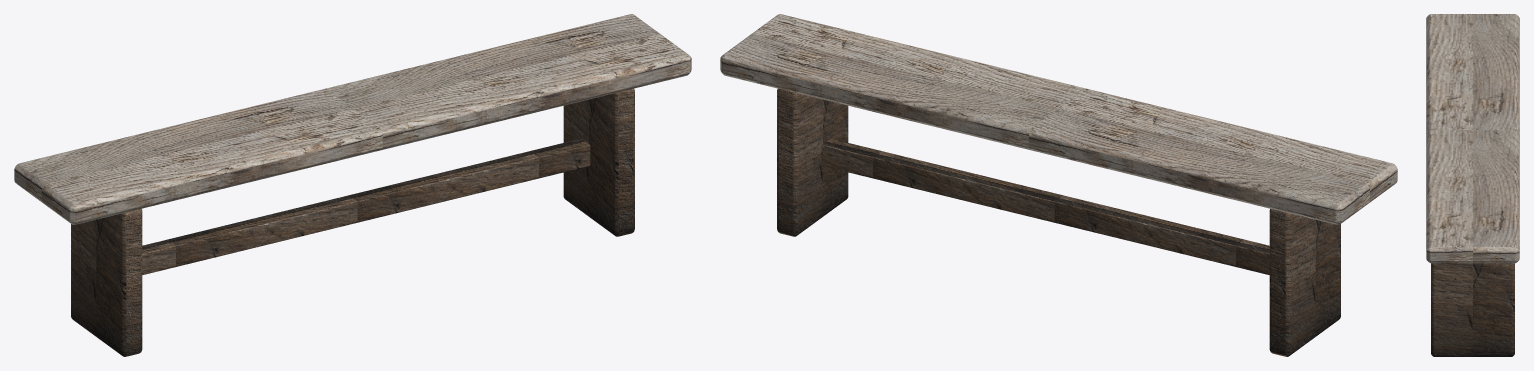
Rendered from long-bench-v02.glb.
The picture shows the model from 3 angles, left to right: view 1: azimuth 30°, elevation 25°; view 2: azimuth 150°, elevation 25°; view 3: azimuth 270°, elevation 25°; orthographic projection. The views are drawn at different scales.
Visible parts, largest first — view 1: long-bench; view 2: long-bench; view 3: long-bench.
Boxes of the visible parts, x1=… form: long-bench: x1=14, y1=14, x2=691, y2=356; long-bench: x1=720, y1=14, x2=1397, y2=356; long-bench: x1=1426, y1=14, x2=1519, y2=356.
Bounding box in the file's own units: 2.4 × 0.62 × 0.4.
Materials: 2 (2 with a texture image).
